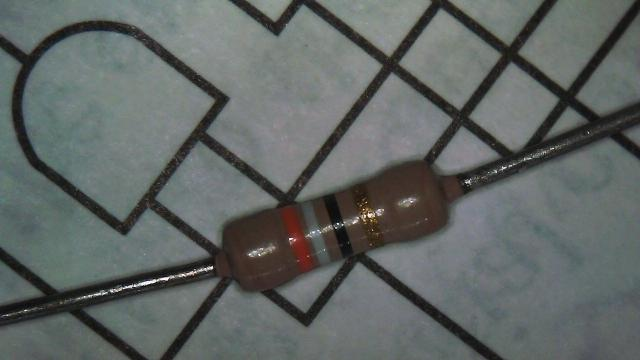black: (322, 193, 352, 258)
gold: (352, 184, 383, 246)
orange: (280, 205, 314, 273)
resistor: (201, 139, 487, 311)
white: (301, 200, 329, 264)
